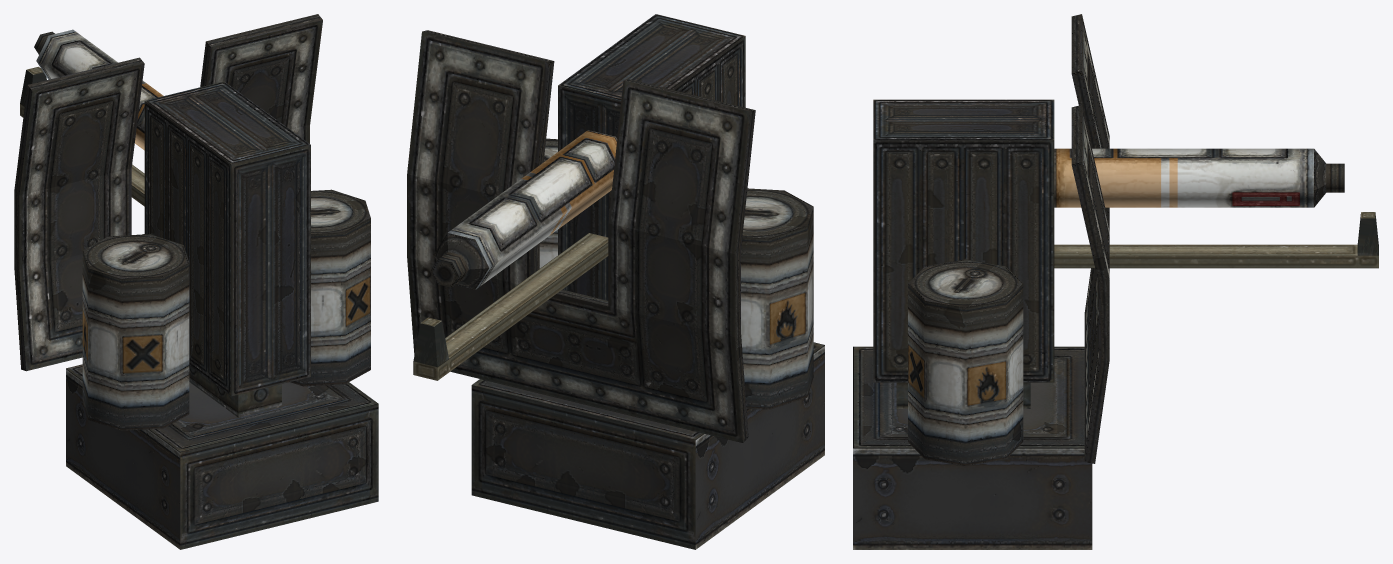
File: MOBILE_TURRET_PACK_1_FLAMETHROWER.FBX
3 views of the same model, side by side, from view 1: azimuth 30°, elevation 25°; view 2: azimuth 150°, elevation 25°; view 3: azimuth 270°, elevation 25° (orthographic). The views are drawn at different scales.
Visible parts, largest first — view 1: Turret_Flamethrower; view 2: Turret_Flamethrower; view 3: Turret_Flamethrower.
Part boxes in pixels (box(x1,y1,x2,y2)): Turret_Flamethrower: box(14, 14, 378, 549); Turret_Flamethrower: box(407, 14, 824, 549); Turret_Flamethrower: box(853, 14, 1378, 549).
Bounding box in the file's own units: 37.18 × 48.32 × 55.77.
